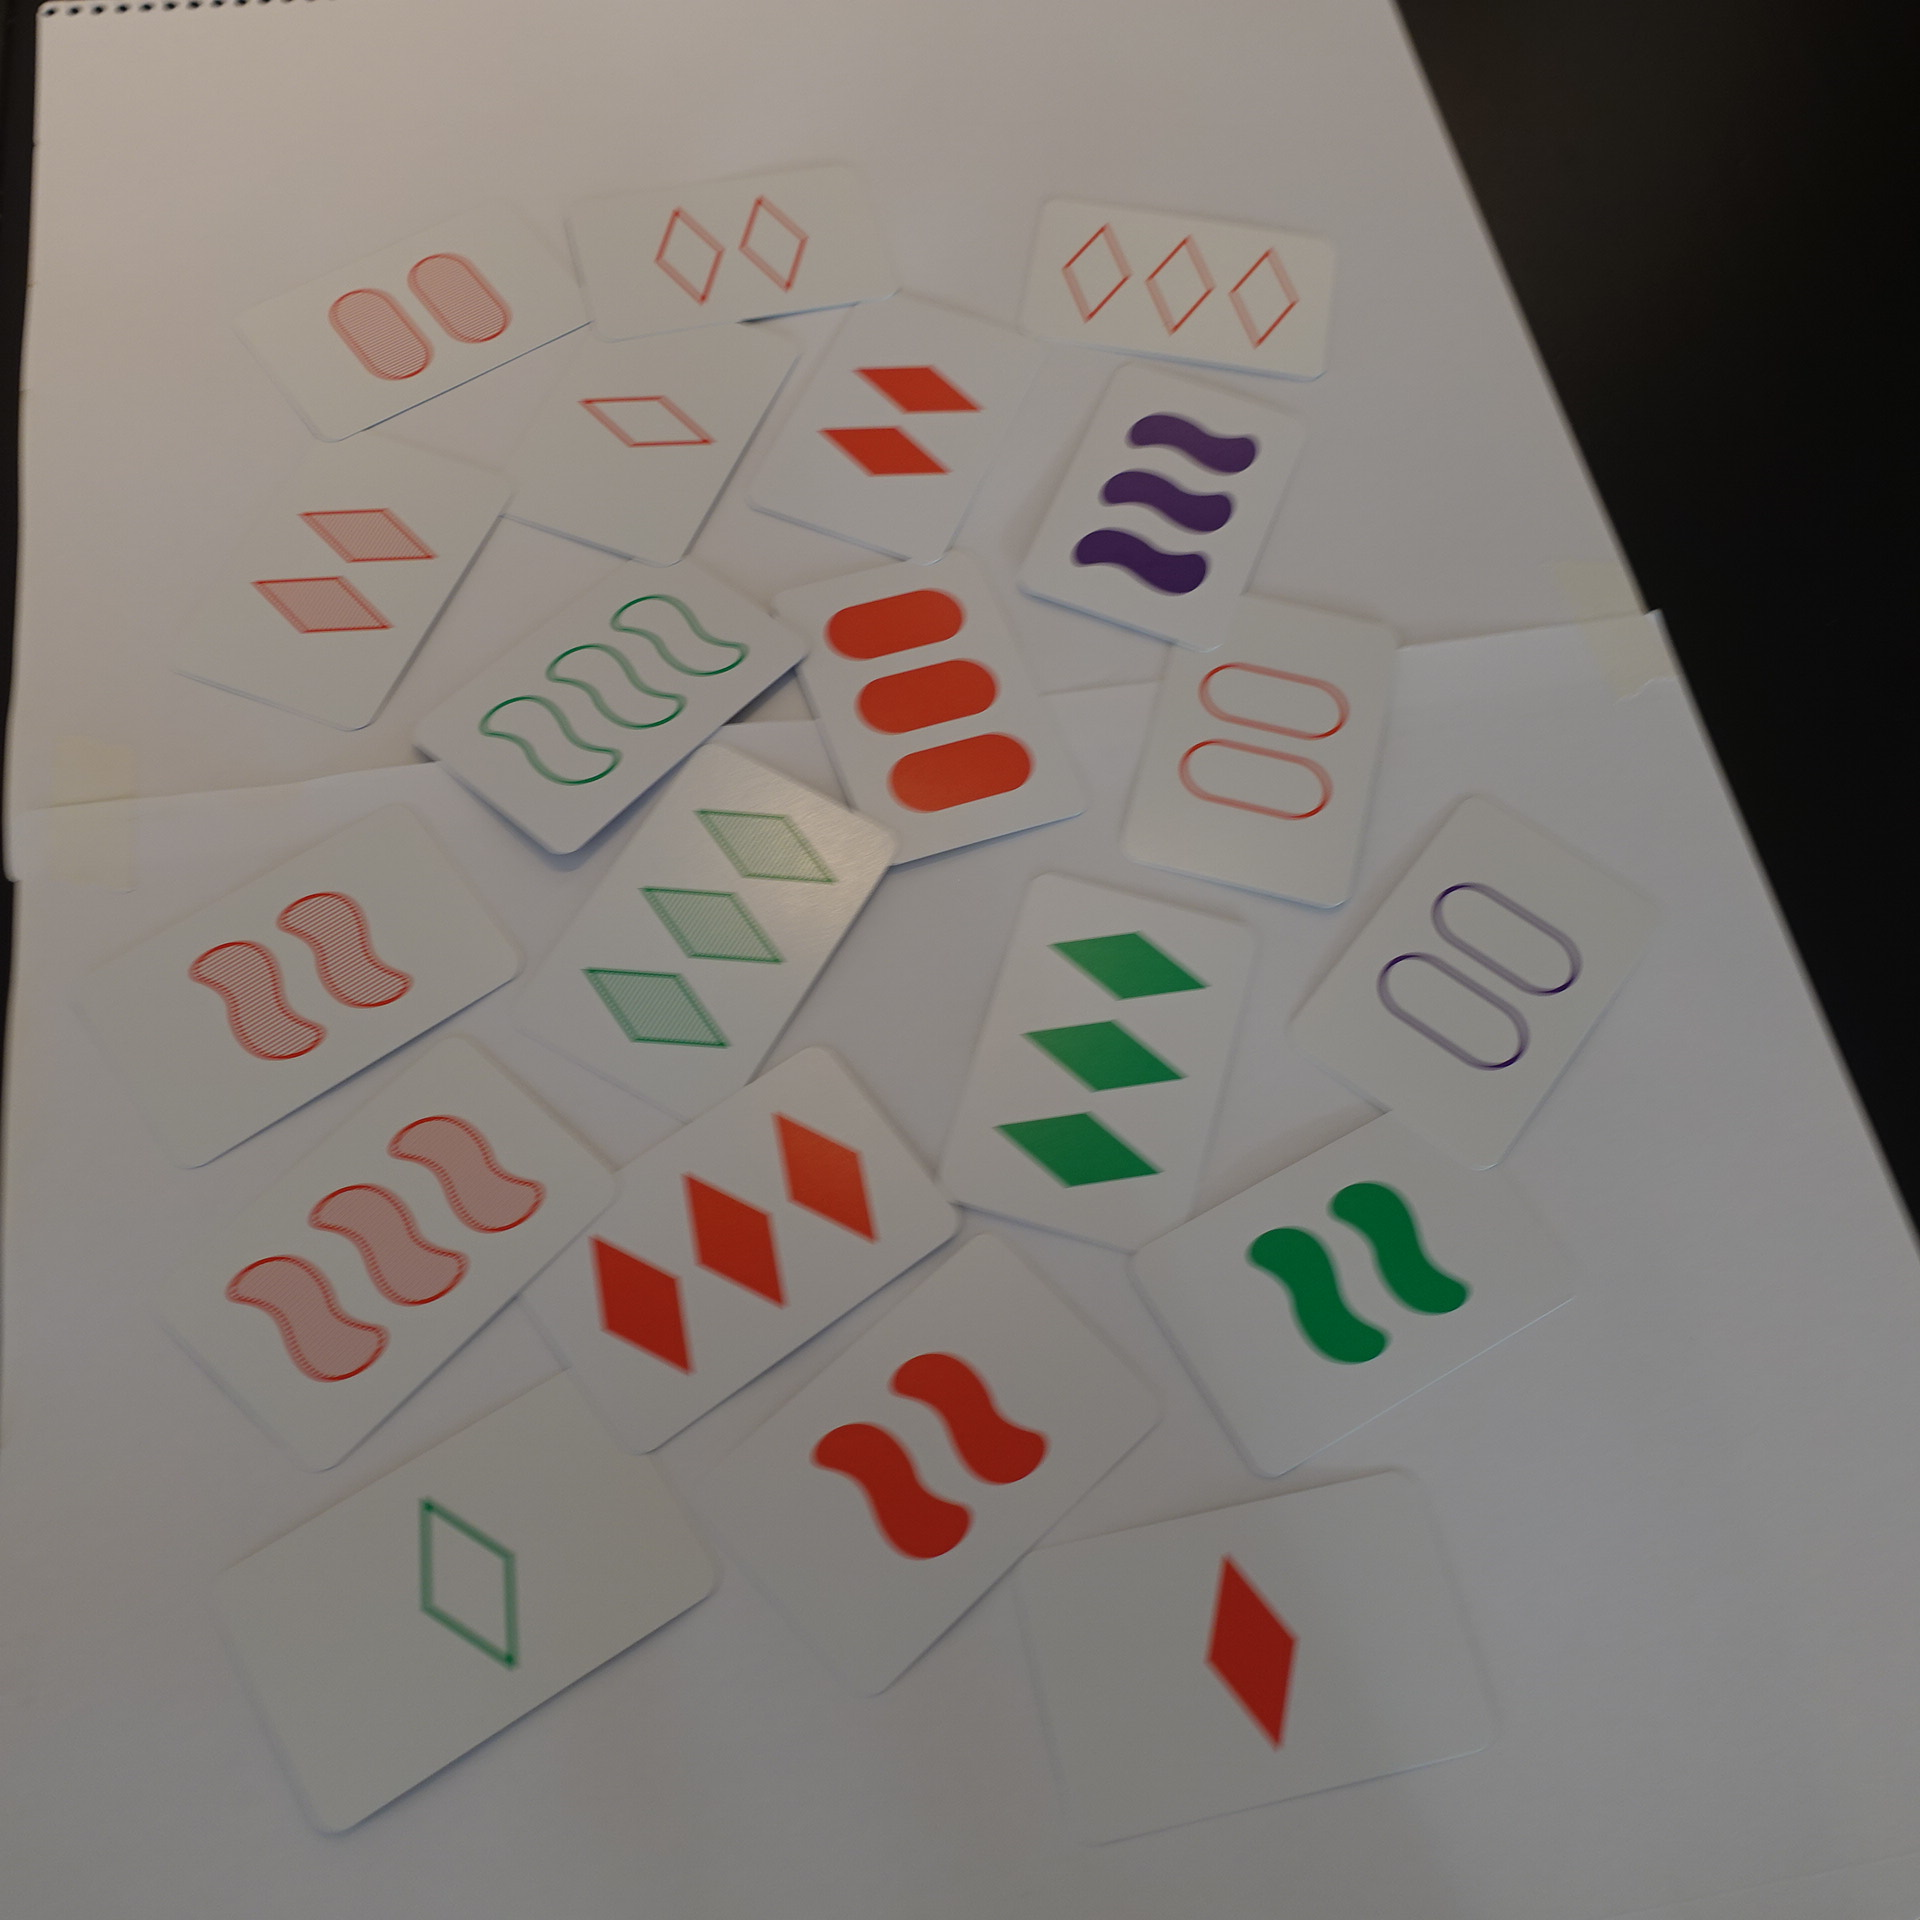c-1-f-d-r: (1000, 1463, 1503, 1844)
c-1-u-d-g: (199, 1373, 716, 1839)
c-1-u-d-r: (492, 294, 804, 557)
c-2-f-d-r: (754, 285, 1044, 566)
c-2-f-s-g: (1129, 1094, 1584, 1475)
c-2-f-s-r: (695, 1238, 1167, 1700)
c-2-h-d-r: (167, 425, 522, 731)
c-2-h-o-r: (230, 197, 601, 441)
c-2-h-s-r: (76, 804, 524, 1167)
c-2-u-d-r: (561, 156, 895, 338)
c-2-u-o-p: (1282, 795, 1665, 1167)
c-2-u-o-r: (1108, 585, 1403, 914)
c-3-f-d-g: (937, 869, 1257, 1259)
c-3-f-d-r: (508, 1044, 965, 1456)
c-3-f-o-r: (767, 550, 1083, 865)
c-3-f-s-p: (1025, 353, 1310, 644)
c-3-h-d-g: (512, 745, 902, 1122)
c-3-h-s-r: (144, 1036, 619, 1472)
c-3-u-d-r: (1015, 193, 1345, 383)
c-3-u-s-g: (413, 554, 812, 855)
